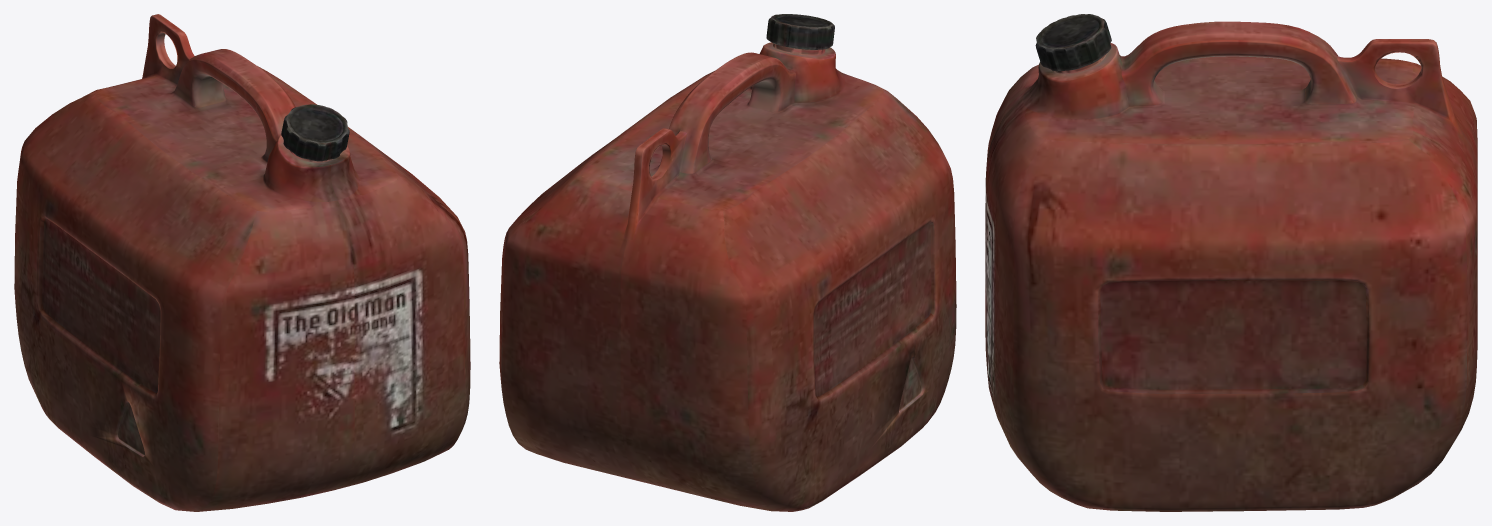
Rendered from plastic_jerrycan.glb.
The picture shows the model from 3 angles, left to right: view 1: azimuth 30°, elevation 25°; view 2: azimuth 150°, elevation 25°; view 3: azimuth 270°, elevation 25°; orthographic projection. The views are drawn at different scales.
Visible parts, largest first — view 1: plastic_jerrycan; view 2: plastic_jerrycan; view 3: plastic_jerrycan.
Part boxes in pixels (box(x1,y1,x2,y2)): plastic_jerrycan: box(14, 14, 470, 511); plastic_jerrycan: box(499, 14, 956, 511); plastic_jerrycan: box(985, 14, 1477, 511).
Size of the model in its own units: 0.268 by 0.3184 by 0.3409.
Materials: 1 (1 with a texture image).
